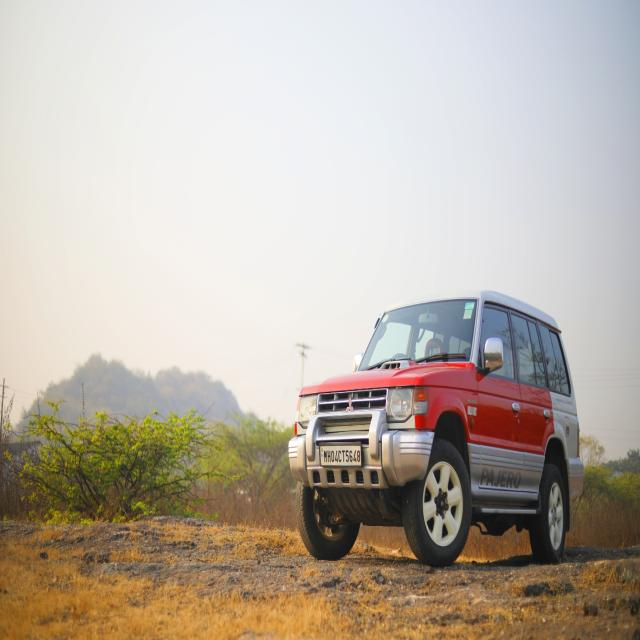light_vehicle: (288, 291, 585, 567)
